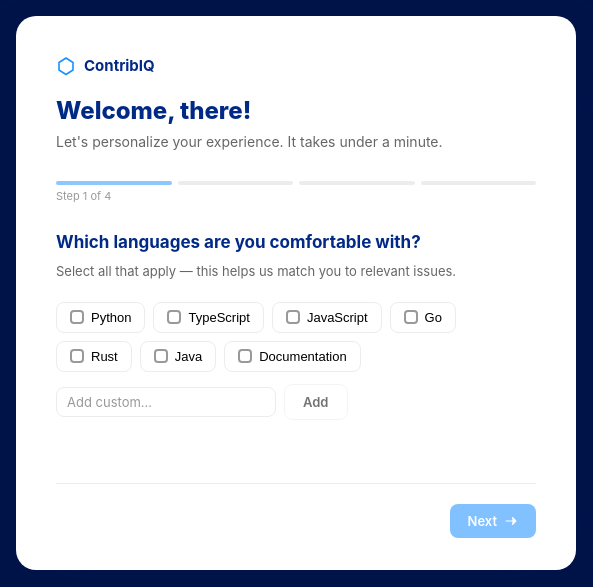
Test: OnboardingSetupPage — step 2 interests gating › Next button is enabled after selecting an interest
The width and height of the screenshot is (593, 587).
Click the button "Python": {"x": 101, "y": 317} [56,302,146,333]
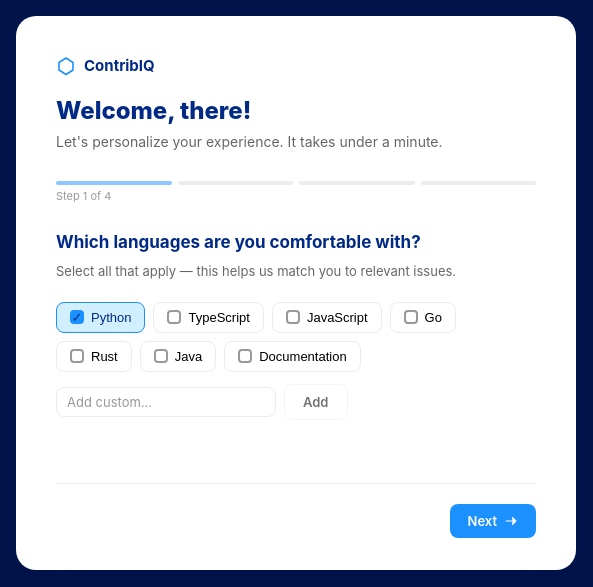
Click the button "Next": {"x": 493, "y": 521} [450,504,536,538]
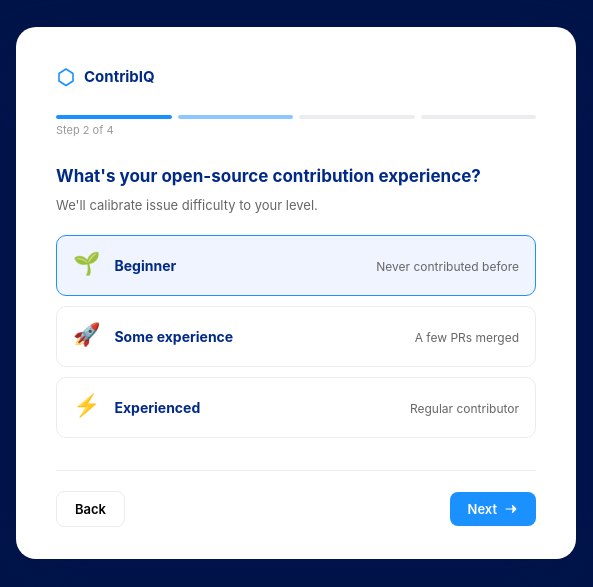
Click the button "Next": {"x": 493, "y": 509} [450,492,536,526]
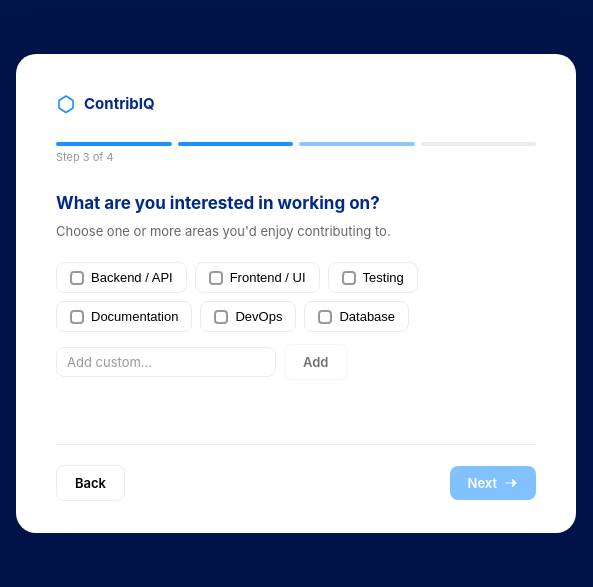
Click the button "Backend / API": {"x": 121, "y": 278} [56,262,187,293]
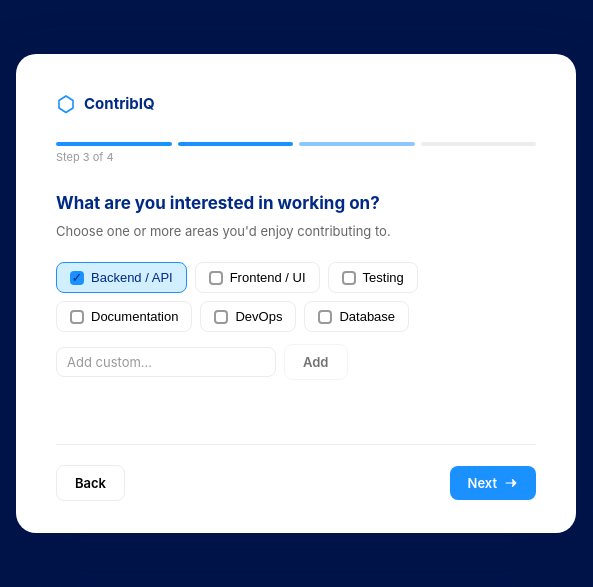
expect the button "Next" is enabled: met, box [450,466,536,500]
